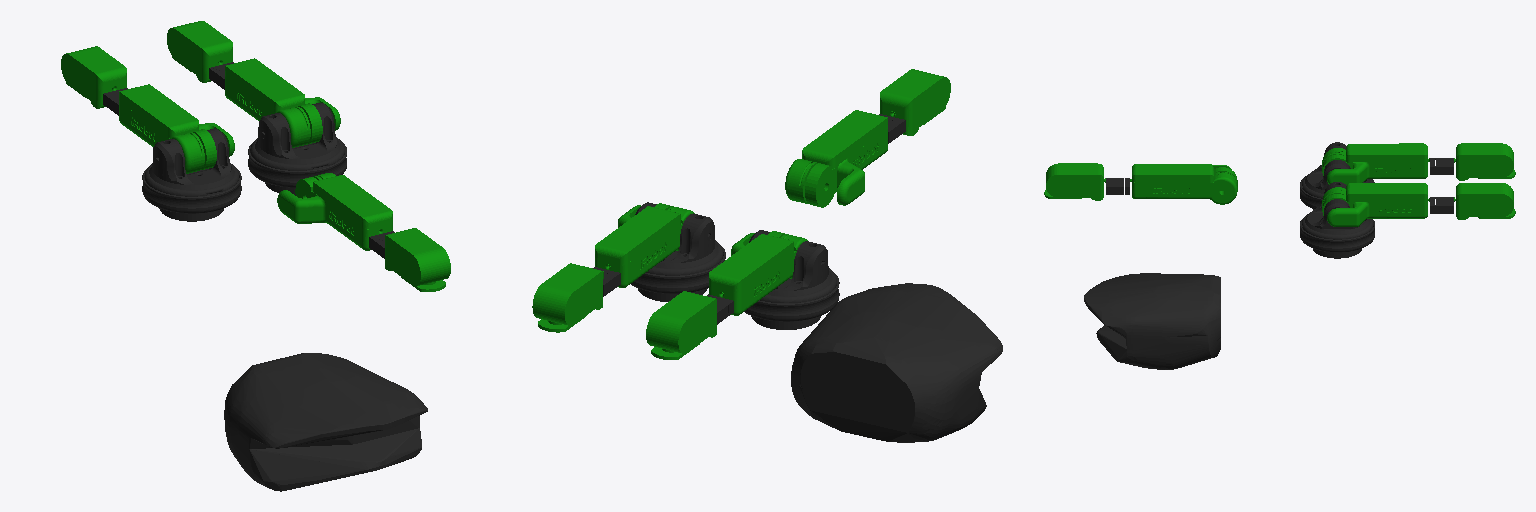
--- Facts derived from the render (not from the file) ---
The picture shows the robot from 3 angles, left to right: view 1: azimuth 30°, elevation 25°; view 2: azimuth 150°, elevation 25°; view 3: azimuth 270°, elevation 25°; orthographic projection.
Robot: armh_handle — 66 links, 65 joints (65 revolute); root link base_link; default pose: every joint at zero.
Visible links, largest first — view 1: base_link, finger[1]/base_rotation_link, finger[2]/proximal_link, finger[0]/base_rotation_link, finger[1]/proximal_link, finger[0]/proximal_link, finger[2]/distal_link, finger[0]/distal_link, finger[1]/distal_link; view 2: base_link, finger[2]/proximal_link, finger[1]/base_rotation_link, finger[0]/proximal_link, finger[1]/proximal_link, finger[0]/base_rotation_link, finger[1]/distal_link, finger[0]/distal_link, finger[2]/distal_link; view 3: base_link, finger[2]/proximal_link, finger[0]/proximal_link, finger[1]/proximal_link, finger[0]/base_rotation_link, finger[1]/distal_link, finger[2]/distal_link, finger[0]/distal_link, finger[1]/base_rotation_link.
Boxes of the visible links, x1,y1,x2,y2 form: base_link: [224, 353, 427, 491]; finger[1]/base_rotation_link: [142, 128, 241, 221]; finger[2]/proximal_link: [277, 173, 392, 250]; finger[0]/base_rotation_link: [248, 103, 346, 195]; finger[1]/proximal_link: [119, 84, 234, 173]; finger[0]/proximal_link: [225, 58, 340, 147]; finger[2]/distal_link: [385, 228, 450, 291]; finger[0]/distal_link: [167, 21, 232, 82]; finger[1]/distal_link: [61, 46, 126, 108]; base_link: [791, 283, 1002, 442]; finger[2]/proximal_link: [785, 110, 887, 207]; finger[1]/base_rotation_link: [744, 230, 839, 329]; finger[0]/proximal_link: [595, 203, 694, 287]; finger[1]/proximal_link: [709, 231, 807, 315]; finger[0]/base_rotation_link: [631, 202, 725, 301]; finger[1]/distal_link: [646, 291, 716, 359]; finger[0]/distal_link: [532, 263, 603, 332]; finger[2]/distal_link: [880, 69, 950, 135]; base_link: [1084, 273, 1220, 369]; finger[2]/proximal_link: [1130, 164, 1237, 204]; finger[0]/proximal_link: [1322, 183, 1429, 226]; finger[1]/proximal_link: [1322, 143, 1429, 184]; finger[0]/base_rotation_link: [1300, 182, 1374, 258]; finger[1]/distal_link: [1454, 143, 1515, 180]; finger[2]/distal_link: [1044, 163, 1105, 200]; finger[0]/distal_link: [1454, 183, 1515, 219]; finger[1]/base_rotation_link: [1300, 142, 1374, 209].
Bounding box of the posed robot: 0.123 × 0.311 × 0.1418 m (x, y, z).
Meshes: 4 distinct files referenced, 9 mesh visuals loaded (4 binary STL).

The robot description file, URDF, robot "armh_handle":
<?xml version="1.0" ?>
<!-- =================================================================================== -->
<!-- |    This document was autogenerated by xacro from robots/handle.urdf.xacro       | -->
<!-- |    EDITING THIS FILE BY HAND IS NOT RECOMMENDED                                 | -->
<!-- =================================================================================== -->
<robot name="armh_handle" xmlns:xacro="http://www.ros.org/wiki/xacro">
  <!-- roslaunch urdf_tutorial display.launch model:=handle.urdf gui:=True -->
  <!-- rosrun xacro xacro.py handle_urdf.xacro > handle.urdf -->
  <!-- tip: use measurements from solid to find the origins and length -->
  <link name="finger[0]/flexible_link_1">
    <inertial>
      <mass value="0.1"/>
      <origin xyz="0 0 0"/>
      <inertia ixx="0.001" ixy="0.0" ixz="0.0" iyy="0.001" iyz="0.0" izz="0.001"/>
    </inertial>
    <collision>
      <geometry>
        <box size=".014 0.00176 .006"/>
      </geometry>
      <origin rpy="1.57 0 0" xyz="0 0 0"/>
    </collision>
    <visual>
      <geometry>
        <box size=".014 0.00176 .006"/>
      </geometry>
      <origin rpy="1.57 0 0" xyz="0 0 0"/>
      <material name="darkgray">
        <color rgba="0.2 0.2 0.2 1"/>
      </material>
    </visual>
  </link>
  <link name="finger[0]/flexible_link_2">
    <inertial>
      <mass value="0.1"/>
      <origin xyz="0 0 0"/>
      <inertia ixx="0.001" ixy="0.0" ixz="0.0" iyy="0.001" iyz="0.0" izz="0.001"/>
    </inertial>
    <collision>
      <geometry>
        <box size=".014 0.00176 .006"/>
      </geometry>
      <origin rpy="1.57 0 0" xyz="0 0 0"/>
    </collision>
    <visual>
      <geometry>
        <box size=".014 0.00176 .006"/>
      </geometry>
      <origin rpy="1.57 0 0" xyz="0 0 0"/>
      <material name="darkgray">
        <color rgba="0.2 0.2 0.2 1"/>
      </material>
    </visual>
  </link>
  <link name="finger[0]/flexible_link_3">
    <inertial>
      <mass value="0.1"/>
      <origin xyz="0 0 0"/>
      <inertia ixx="0.001" ixy="0.0" ixz="0.0" iyy="0.001" iyz="0.0" izz="0.001"/>
    </inertial>
    <collision>
      <geometry>
        <box size=".014 0.00176 .006"/>
      </geometry>
      <origin rpy="1.57 0 0" xyz="0 0 0"/>
    </collision>
    <visual>
      <geometry>
        <box size=".014 0.00176 .006"/>
      </geometry>
      <origin rpy="1.57 0 0" xyz="0 0 0"/>
      <material name="darkgray">
        <color rgba="0.2 0.2 0.2 1"/>
      </material>
    </visual>
  </link>
  <link name="finger[0]/flexible_link_4">
    <inertial>
      <mass value="0.1"/>
      <origin xyz="0 0 0"/>
      <inertia ixx="0.001" ixy="0.0" ixz="0.0" iyy="0.001" iyz="0.0" izz="0.001"/>
    </inertial>
    <collision>
      <geometry>
        <box size=".014 0.00176 .006"/>
      </geometry>
      <origin rpy="1.57 0 0" xyz="0 0 0"/>
    </collision>
    <visual>
      <geometry>
        <box size=".014 0.00176 .006"/>
      </geometry>
      <origin rpy="1.57 0 0" xyz="0 0 0"/>
      <material name="darkgray">
        <color rgba="0.2 0.2 0.2 1"/>
      </material>
    </visual>
  </link>
  <link name="finger[0]/flexible_link_5">
    <inertial>
      <mass value="0.1"/>
      <origin xyz="0 0 0"/>
      <inertia ixx="0.001" ixy="0.0" ixz="0.0" iyy="0.001" iyz="0.0" izz="0.001"/>
    </inertial>
    <collision>
      <geometry>
        <box size=".014 0.00176 .006"/>
      </geometry>
      <origin rpy="1.57 0 0" xyz="0 0 0"/>
    </collision>
    <visual>
      <geometry>
        <box size=".014 0.00176 .006"/>
      </geometry>
      <origin rpy="1.57 0 0" xyz="0 0 0"/>
      <material name="darkgray">
        <color rgba="0.2 0.2 0.2 1"/>
      </material>
    </visual>
  </link>
  <link name="finger[0]/flexible_link_6">
    <inertial>
      <mass value="0.1"/>
      <origin xyz="0 0 0"/>
      <inertia ixx="0.001" ixy="0.0" ixz="0.0" iyy="0.001" iyz="0.0" izz="0.001"/>
    </inertial>
    <collision>
      <geometry>
        <box size=".014 0.00176 .006"/>
      </geometry>
      <origin rpy="1.57 0 0" xyz="0 0 0"/>
    </collision>
    <visual>
      <geometry>
        <box size=".014 0.00176 .006"/>
      </geometry>
      <origin rpy="1.57 0 0" xyz="0 0 0"/>
      <material name="darkgray">
        <color rgba="0.2 0.2 0.2 1"/>
      </material>
    </visual>
  </link>
  <link name="finger[0]/flexible_link_7">
    <inertial>
      <mass value="0.1"/>
      <origin xyz="0 0 0"/>
      <inertia ixx="0.001" ixy="0.0" ixz="0.0" iyy="0.001" iyz="0.0" izz="0.001"/>
    </inertial>
    <collision>
      <geometry>
        <box size=".014 0.00176 .006"/>
      </geometry>
      <origin rpy="1.57 0 0" xyz="0 0 0"/>
    </collision>
    <visual>
      <geometry>
        <box size=".014 0.00176 .006"/>
      </geometry>
      <origin rpy="1.57 0 0" xyz="0 0 0"/>
      <material name="darkgray">
        <color rgba="0.2 0.2 0.2 1"/>
      </material>
    </visual>
  </link>
  <link name="finger[0]/flexible_link_8">
    <inertial>
      <mass value="0.1"/>
      <origin xyz="0 0 0"/>
      <inertia ixx="0.001" ixy="0.0" ixz="0.0" iyy="0.001" iyz="0.0" izz="0.001"/>
    </inertial>
    <collision>
      <geometry>
        <box size=".014 0.00176 .006"/>
      </geometry>
      <origin rpy="1.57 0 0" xyz="0 0 0"/>
    </collision>
    <visual>
      <geometry>
        <box size=".014 0.00176 .006"/>
      </geometry>
      <origin rpy="1.57 0 0" xyz="0 0 0"/>
      <material name="darkgray">
        <color rgba="0.2 0.2 0.2 1"/>
      </material>
    </visual>
  </link>
  <link name="finger[0]/flexible_link_9">
    <inertial>
      <mass value="0.1"/>
      <origin xyz="0 0 0"/>
      <inertia ixx="0.001" ixy="0.0" ixz="0.0" iyy="0.001" iyz="0.0" izz="0.001"/>
    </inertial>
    <collision>
      <geometry>
        <box size=".014 0.00176 .006"/>
      </geometry>
      <origin rpy="1.57 0 0" xyz="0 0 0"/>
    </collision>
    <visual>
      <geometry>
        <box size=".014 0.00176 .006"/>
      </geometry>
      <origin rpy="1.57 0 0" xyz="0 0 0"/>
      <material name="darkgray">
        <color rgba="0.2 0.2 0.2 1"/>
      </material>
    </visual>
  </link>
  <joint name="finger[0]/flexible_joint_flex_from_1_to_2" type="revolute">
    <parent link="finger[0]/flexible_link_1"/>
    <child link="finger[0]/flexible_link_hidden_between_1_and_2"/>
    <origin xyz="0 0 0.00177777777778"/>
    <axis xyz="-1 0 0"/>
    <limit effort="1000.0" lower="0.0" upper="1.57" velocity="0.5"/>
  </joint>
  <link name="finger[0]/flexible_link_hidden_between_1_and_2">
    <inertial>
      <mass value="0.1"/>
      <origin xyz="0 0 0"/>
      <inertia ixx="0.001" ixy="0.0" ixz="0.0" iyy="0.001" iyz="0.0" izz="0.001"/>
    </inertial>
    <collision>
      <geometry>
        <box size="0 0 0"/>
      </geometry>
      <origin rpy="0 0 0" xyz="0 0 0"/>
    </collision>
    <visual>
      <geometry>
        <box size="0 0 0"/>
      </geometry>
      <origin rpy="0 0 0" xyz="0 0 0"/>
    </visual>
  </link>
  <joint name="finger[0]/flexible_joint_twist_from_1_to_2" type="revolute">
    <parent link="finger[0]/flexible_link_hidden_between_1_and_2"/>
    <child link="finger[0]/flexible_link_2"/>
    <origin xyz="0 0 0"/>
    <axis xyz="0 0 1"/>
    <limit effort="1000.0" lower="0.0" upper="1.57" velocity="0.5"/>
  </joint>
  <joint name="finger[0]/flexible_joint_flex_from_2_to_3" type="revolute">
    <parent link="finger[0]/flexible_link_2"/>
    <child link="finger[0]/flexible_link_hidden_between_2_and_3"/>
    <origin xyz="0 0 0.00177777777778"/>
    <axis xyz="-1 0 0"/>
    <limit effort="1000.0" lower="0.0" upper="1.57" velocity="0.5"/>
  </joint>
  <link name="finger[0]/flexible_link_hidden_between_2_and_3">
    <inertial>
      <mass value="0.1"/>
      <origin xyz="0 0 0"/>
      <inertia ixx="0.001" ixy="0.0" ixz="0.0" iyy="0.001" iyz="0.0" izz="0.001"/>
    </inertial>
    <collision>
      <geometry>
        <box size="0 0 0"/>
      </geometry>
      <origin rpy="0 0 0" xyz="0 0 0"/>
    </collision>
    <visual>
      <geometry>
        <box size="0 0 0"/>
      </geometry>
      <origin rpy="0 0 0" xyz="0 0 0"/>
    </visual>
  </link>
  <joint name="finger[0]/flexible_joint_twist_from_2_to_3" type="revolute">
    <parent link="finger[0]/flexible_link_hidden_between_2_and_3"/>
    <child link="finger[0]/flexible_link_3"/>
    <origin xyz="0 0 0"/>
    <axis xyz="0 0 1"/>
    <limit effort="1000.0" lower="0.0" upper="1.57" velocity="0.5"/>
  </joint>
  <joint name="finger[0]/flexible_joint_flex_from_3_to_4" type="revolute">
    <parent link="finger[0]/flexible_link_3"/>
    <child link="finger[0]/flexible_link_hidden_between_3_and_4"/>
    <origin xyz="0 0 0.00177777777778"/>
    <axis xyz="-1 0 0"/>
    <limit effort="1000.0" lower="0.0" upper="1.57" velocity="0.5"/>
  </joint>
  <link name="finger[0]/flexible_link_hidden_between_3_and_4">
    <inertial>
      <mass value="0.1"/>
      <origin xyz="0 0 0"/>
      <inertia ixx="0.001" ixy="0.0" ixz="0.0" iyy="0.001" iyz="0.0" izz="0.001"/>
    </inertial>
    <collision>
      <geometry>
        <box size="0 0 0"/>
      </geometry>
      <origin rpy="0 0 0" xyz="0 0 0"/>
    </collision>
    <visual>
      <geometry>
        <box size="0 0 0"/>
      </geometry>
      <origin rpy="0 0 0" xyz="0 0 0"/>
    </visual>
  </link>
  <joint name="finger[0]/flexible_joint_twist_from_3_to_4" type="revolute">
    <parent link="finger[0]/flexible_link_hidden_between_3_and_4"/>
    <child link="finger[0]/flexible_link_4"/>
    <origin xyz="0 0 0"/>
    <axis xyz="0 0 1"/>
    <limit effort="1000.0" lower="0.0" upper="1.57" velocity="0.5"/>
  </joint>
  <joint name="finger[0]/flexible_joint_flex_from_4_to_5" type="revolute">
    <parent link="finger[0]/flexible_link_4"/>
    <child link="finger[0]/flexible_link_hidden_between_4_and_5"/>
    <origin xyz="0 0 0.00177777777778"/>
    <axis xyz="-1 0 0"/>
    <limit effort="1000.0" lower="0.0" upper="1.57" velocity="0.5"/>
  </joint>
  <link name="finger[0]/flexible_link_hidden_between_4_and_5">
    <inertial>
      <mass value="0.1"/>
      <origin xyz="0 0 0"/>
      <inertia ixx="0.001" ixy="0.0" ixz="0.0" iyy="0.001" iyz="0.0" izz="0.001"/>
    </inertial>
    <collision>
      <geometry>
        <box size="0 0 0"/>
      </geometry>
      <origin rpy="0 0 0" xyz="0 0 0"/>
    </collision>
    <visual>
      <geometry>
        <box size="0 0 0"/>
      </geometry>
      <origin rpy="0 0 0" xyz="0 0 0"/>
    </visual>
  </link>
  <joint name="finger[0]/flexible_joint_twist_from_4_to_5" type="revolute">
    <parent link="finger[0]/flexible_link_hidden_between_4_and_5"/>
    <child link="finger[0]/flexible_link_5"/>
    <origin xyz="0 0 0"/>
    <axis xyz="0 0 1"/>
    <limit effort="1000.0" lower="0.0" upper="1.57" velocity="0.5"/>
  </joint>
  <joint name="finger[0]/flexible_joint_flex_from_5_to_6" type="revolute">
    <parent link="finger[0]/flexible_link_5"/>
    <child link="finger[0]/flexible_link_hidden_between_5_and_6"/>
    <origin xyz="0 0 0.00177777777778"/>
    <axis xyz="-1 0 0"/>
    <limit effort="1000.0" lower="0.0" upper="1.57" velocity="0.5"/>
  </joint>
  <link name="finger[0]/flexible_link_hidden_between_5_and_6">
    <inertial>
      <mass value="0.1"/>
      <origin xyz="0 0 0"/>
      <inertia ixx="0.001" ixy="0.0" ixz="0.0" iyy="0.001" iyz="0.0" izz="0.001"/>
    </inertial>
    <collision>
      <geometry>
        <box size="0 0 0"/>
      </geometry>
      <origin rpy="0 0 0" xyz="0 0 0"/>
    </collision>
    <visual>
      <geometry>
        <box size="0 0 0"/>
      </geometry>
      <origin rpy="0 0 0" xyz="0 0 0"/>
    </visual>
  </link>
  <joint name="finger[0]/flexible_joint_twist_from_5_to_6" type="revolute">
    <parent link="finger[0]/flexible_link_hidden_between_5_and_6"/>
    <child link="finger[0]/flexible_link_6"/>
    <origin xyz="0 0 0"/>
    <axis xyz="0 0 1"/>
    <limit effort="1000.0" lower="0.0" upper="1.57" velocity="0.5"/>
  </joint>
  <joint name="finger[0]/flexible_joint_flex_from_6_to_7" type="revolute">
    <parent link="finger[0]/flexible_link_6"/>
    <child link="finger[0]/flexible_link_hidden_between_6_and_7"/>
    <origin xyz="0 0 0.00177777777778"/>
    <axis xyz="-1 0 0"/>
    <limit effort="1000.0" lower="0.0" upper="1.57" velocity="0.5"/>
  </joint>
  <link name="finger[0]/flexible_link_hidden_between_6_and_7">
    <inertial>
      <mass value="0.1"/>
      <origin xyz="0 0 0"/>
      <inertia ixx="0.001" ixy="0.0" ixz="0.0" iyy="0.001" iyz="0.0" izz="0.001"/>
    </inertial>
    <collision>
      <geometry>
        <box size="0 0 0"/>
      </geometry>
      <origin rpy="0 0 0" xyz="0 0 0"/>
    </collision>
    <visual>
      <geometry>
        <box size="0 0 0"/>
      </geometry>
      <origin rpy="0 0 0" xyz="0 0 0"/>
    </visual>
  </link>
  <joint name="finger[0]/flexible_joint_twist_from_6_to_7" type="revolute">
    <parent link="finger[0]/flexible_link_hidden_between_6_and_7"/>
    <child link="finger[0]/flexible_link_7"/>
    <origin xyz="0 0 0"/>
    <axis xyz="0 0 1"/>
    <limit effort="1000.0" lower="0.0" upper="1.57" velocity="0.5"/>
  </joint>
  <joint name="finger[0]/flexible_joint_flex_from_7_to_8" type="revolute">
    <parent link="finger[0]/flexible_link_7"/>
    <child link="finger[0]/flexible_link_hidden_between_7_and_8"/>
    <origin xyz="0 0 0.00177777777778"/>
    <axis xyz="-1 0 0"/>
    <limit effort="1000.0" lower="0.0" upper="1.57" velocity="0.5"/>
  </joint>
  <link name="finger[0]/flexible_link_hidden_between_7_and_8">
    <inertial>
      <mass value="0.1"/>
      <origin xyz="0 0 0"/>
      <inertia ixx="0.001" ixy="0.0" ixz="0.0" iyy="0.001" iyz="0.0" izz="0.001"/>
    </inertial>
    <collision>
      <geometry>
        <box size="0 0 0"/>
      </geometry>
      <origin rpy="0 0 0" xyz="0 0 0"/>
    </collision>
    <visual>
      <geometry>
        <box size="0 0 0"/>
      </geometry>
      <origin rpy="0 0 0" xyz="0 0 0"/>
    </visual>
  </link>
  <joint name="finger[0]/flexible_joint_twist_from_7_to_8" type="revolute">
    <parent link="finger[0]/flexible_link_hidden_between_7_and_8"/>
    <child link="finger[0]/flexible_link_8"/>
    <origin xyz="0 0 0"/>
    <axis xyz="0 0 1"/>
    <limit effort="1000.0" lower="0.0" upper="1.57" velocity="0.5"/>
  </joint>
  <joint name="finger[0]/flexible_joint_flex_from_8_to_9" type="revolute">
    <parent link="finger[0]/flexible_link_8"/>
    <child link="finger[0]/flexible_link_hidden_between_8_and_9"/>
    <origin xyz="0 0 0.00177777777778"/>
    <axis xyz="-1 0 0"/>
    <limit effort="1000.0" lower="0.0" upper="1.57" velocity="0.5"/>
  </joint>
  <link name="finger[0]/flexible_link_hidden_between_8_and_9">
    <inertial>
      <mass value="0.1"/>
      <origin xyz="0 0 0"/>
      <inertia ixx="0.001" ixy="0.0" ixz="0.0" iyy="0.001" iyz="0.0" izz="0.001"/>
    </inertial>
    <collision>
      <geometry>
        <box size="0 0 0"/>
      </geometry>
      <origin rpy="0 0 0" xyz="0 0 0"/>
    </collision>
    <visual>
      <geometry>
        <box size="0 0 0"/>
      </geometry>
      <origin rpy="0 0 0" xyz="0 0 0"/>
    </visual>
  </link>
  <joint name="finger[0]/flexible_joint_twist_from_8_to_9" type="revolute">
    <parent link="finger[0]/flexible_link_hidden_between_8_and_9"/>
    <child link="finger[0]/flexible_link_9"/>
    <origin xyz="0 0 0"/>
    <axis xyz="0 0 1"/>
    <limit effort="1000.0" lower="0.0" upper="1.57" velocity="0.5"/>
  </joint>
  <joint name="finger[0]/flexible_joint_flex_from_proximal_to_1" type="revolute">
    <parent link="finger[0]/proximal_link"/>
    <child link="finger[0]/flexible_link_hidden_between_proximal_link_and_1"/>
    <origin xyz="0 0 0.062"/>
    <axis xyz="-1 0 0"/>
    <limit effort="1000.0" lower="0.0" upper="1.57" velocity="0.5"/>
  </joint>
  <link name="finger[0]/flexible_link_hidden_between_proximal_link_and_1">
    <inertial>
      <mass value="0.1"/>
      <origin xyz="0 0 0"/>
      <inertia ixx="0.001" ixy="0.0" ixz="0.0" iyy="0.001" iyz="0.0" izz="0.001"/>
    </inertial>
    <collision>
      <geometry>
        <box size="0 0 0"/>
      </geometry>
      <origin rpy="0 0 0" xyz="0 0 0"/>
    </collision>
    <visual>
      <geometry>
        <box size="0 0 0"/>
      </geometry>
      <origin rpy="0 0 0" xyz="0 0 0"/>
    </visual>
  </link>
  <joint name="finger[0]/flexible_joint_twist_from_proximal_to_1" type="revolute">
    <parent link="finger[0]/flexible_link_hidden_between_proximal_link_and_1"/>
    <child link="finger[0]/flexible_link_1"/>
    <origin xyz="0 0 0"/>
    <axis xyz="0 0 1"/>
    <limit effort="1000.0" lower="0.0" upper="1.57" velocity="0.5"/>
  </joint>
  <joint name="finger[0]/flexible_joint_flex_from_9_to_distal" type="revolute">
    <parent link="finger[0]/flexible_link_9"/>
    <child link="finger[0]/flexible_link_hidden_between_9_and_distal_link"/>
    <origin xyz="0 0 0.00177777777778"/>
    <axis xyz="-1 0 0"/>
    <limit effort="1000.0" lower="0.0" upper="1.57" velocity="0.5"/>
  </joint>
  <link name="finger[0]/flexible_link_hidden_between_9_and_distal_link">
    <inertial>
      <mass value="0.1"/>
      <origin xyz="0 0 0"/>
      <inertia ixx="0.001" ixy="0.0" ixz="0.0" iyy="0.001" iyz="0.0" izz="0.001"/>
    </inertial>
    <collision>
      <geometry>
        <box size="0 0 0"/>
      </geometry>
      <origin rpy="0 0 0" xyz="0 0 0"/>
    </collision>
    <visual>
      <geometry>
        <box size="0 0 0"/>
      </geometry>
      <origin rpy="0 0 0" xyz="0 0 0"/>
    </visual>
  </link>
  <joint name="finger[0]/flexible_joint_twist_from_9_to_distal" type="revolute">
    <parent link="finger[0]/flexible_link_hidden_between_9_and_distal_link"/>
    <child link="finger[0]/distal_link"/>
    <origin xyz="0 0 0"/>
    <axis xyz="0 0 1"/>
    <limit effort="1000.0" lower="0.0" upper="1.57" velocity="0.5"/>
  </joint>
  <link name="finger[1]/flexible_link_1">
    <inertial>
      <mass value="0.1"/>
      <origin xyz="0 0 0"/>
      <inertia ixx="0.001" ixy="0.0" ixz="0.0" iyy="0.001" iyz="0.0" izz="0.001"/>
    </inertial>
    <collision>
      <geometry>
        <box size=".014 0.00176 .006"/>
      </geometry>
      <origin rpy="1.57 0 0" xyz="0 0 0"/>
    </collision>
    <visual>
      <geometry>
        <box size=".014 0.00176 .006"/>
      </geometry>
      <origin rpy="1.57 0 0" xyz="0 0 0"/>
      <material name="darkgray">
        <color rgba="0.2 0.2 0.2 1"/>
      </material>
    </visual>
  </link>
  <link name="finger[1]/flexible_link_2">
    <inertial>
      <mass value="0.1"/>
      <origin xyz="0 0 0"/>
      <inertia ixx="0.001" ixy="0.0" ixz="0.0" iyy="0.001" iyz="0.0" izz="0.001"/>
    </inertial>
    <collision>
      <geometry>
        <box size=".014 0.00176 .006"/>
      </geometry>
      <origin rpy="1.57 0 0" xyz="0 0 0"/>
    </collision>
    <visual>
      <geometry>
        <box size=".014 0.00176 .006"/>
      </geometry>
      <origin rpy="1.57 0 0" xyz="0 0 0"/>
      <material name="darkgray">
        <color rgba="0.2 0.2 0.2 1"/>
      </material>
    </visual>
  </link>
  <link name="finger[1]/flexible_link_3">
    <inertial>
      <mass value="0.1"/>
      <origin xyz="0 0 0"/>
      <inertia ixx="0.001" ixy="0.0" ixz="0.0" iyy="0.001" iyz="0.0" izz="0.001"/>
    </inertial>
    <collision>
      <geometry>
        <box size=".014 0.00176 .006"/>
      </geometry>
      <origin rpy="1.57 0 0" xyz="0 0 0"/>
    </collision>
    <visual>
      <geometry>
        <box size=".014 0.00176 .006"/>
      </geometry>
      <origin rpy="1.57 0 0" xyz="0 0 0"/>
      <material name="darkgray">
        <color rgba="0.2 0.2 0.2 1"/>
      </material>
    </visual>
  </link>
  <link name="finger[1]/flexible_link_4">
    <inertial>
      <mass value="0.1"/>
      <origin xyz="0 0 0"/>
      <inertia ixx="0.001" ixy="0.0" ixz="0.0" iyy="0.001" iyz="0.0" izz="0.001"/>
    </inertial>
    <collision>
      <geometry>
        <box size=".014 0.00176 .006"/>
      </geometry>
      <origin rpy="1.57 0 0" xyz="0 0 0"/>
    </collision>
    <visual>
      <geometry>
        <box size=".014 0.00176 .006"/>
      </geometry>
      <origin rpy="1.57 0 0" xyz="0 0 0"/>
      <material name="darkgray">
        <color rgba="0.2 0.2 0.2 1"/>
      </material>
    </visual>
  </link>
  <link name="finger[1]/flexible_link_5">
    <inertial>
      <mass value="0.1"/>
      <origin xyz="0 0 0"/>
      <inertia ixx="0.001" ixy="0.0" ixz="0.0" iyy="0.001" iyz="0.0" izz="0.001"/>
    </inertial>
    <collision>
      <geometry>
        <box size=".014 0.00176 .006"/>
      </geometry>
      <origin rpy="1.57 0 0" xyz="0 0 0"/>
    </collision>
    <visual>
      <geometry>
        <box size=".014 0.00176 .006"/>
      </geometry>
      <origin rpy="1.57 0 0" xyz="0 0 0"/>
      <material name="darkgray">
        <color rgba="0.2 0.2 0.2 1"/>
      </material>
    </visual>
  </link>
  <link name="finger[1]/flexible_link_6">
    <inertial>
      <mass value="0.1"/>
      <origin xyz="0 0 0"/>
      <inertia ixx="0.001" ixy="0.0" ixz="0.0" iyy="0.001" iyz="0.0" izz="0.001"/>
    </inertial>
    <collision>
      <geometry>
        <box size=".014 0.00176 .006"/>
      </geometry>
      <origin rpy="1.57 0 0" xyz="0 0 0"/>
    </collision>
    <visual>
      <geometry>
        <box size=".014 0.00176 .006"/>
      </geometry>
      <origin rpy="1.57 0 0" xyz="0 0 0"/>
      <material name="darkgray">
        <color rgba="0.2 0.2 0.2 1"/>
      </material>
    </visual>
  </link>
  <link name="finger[1]/flexible_link_7">
    <inertial>
      <mass value="0.1"/>
      <origin xyz="0 0 0"/>
      <inertia ixx="0.001" ixy="0.0" ixz="0.0" iyy="0.001" iyz="0.0" izz="0.001"/>
    </inertial>
    <collision>
      <geometry>
        <box size=".014 0.00176 .006"/>
      </geometry>
      <origin rpy="1.57 0 0" xyz="0 0 0"/>
    </collision>
    <visual>
      <geometry>
        <box size=".014 0.00176 .006"/>
      </geometry>
      <origin rpy="1.57 0 0" xyz="0 0 0"/>
      <material name="darkgray">
        <color rgba="0.2 0.2 0.2 1"/>
      </material>
    </visual>
  </link>
  <link name="finger[1]/flexible_link_8">
    <inertial>
      <mass value="0.1"/>
      <origin xyz="0 0 0"/>
      <inertia ixx="0.001" ixy="0.0" ixz="0.0" iyy="0.001" iyz="0.0" izz="0.001"/>
    </inertial>
    <collision>
      <geometry>
        <box size=".014 0.00176 .006"/>
      </geometry>
      <origin rpy="1.57 0 0" xyz="0 0 0"/>
    </collision>
    <visual>
      <geometry>
        <box size=".014 0.00176 .006"/>
      </geometry>
      <origin rpy="1.57 0 0" xyz="0 0 0"/>
      <material name="darkgray">
        <color rgba="0.2 0.2 0.2 1"/>
      </material>
    </visual>
  </link>
  <link name="finger[1]/flexible_link_9">
    <inertial>
      <mass value="0.1"/>
      <origin xyz="0 0 0"/>
      <inertia ixx="0.001" ixy="0.0" ixz="0.0" iyy="0.001" iyz="0.0" izz="0.001"/>
    </inertial>
    <collision>
      <geometry>
        <box size=".014 0.00176 .006"/>
      </geometry>
      <origin rpy="1.57 0 0" xyz="0 0 0"/>
    </collision>
    <visual>
      <geometry>
        <box size=".014 0.00176 .006"/>
      </geometry>
      <origin rpy="1.57 0 0" xyz="0 0 0"/>
      <material name="darkgray">
        <color rgba="0.2 0.2 0.2 1"/>
      </material>
    </visual>
  </link>
  <joint name="finger[1]/flexible_joint_flex_from_1_to_2" type="revolute">
    <parent link="finger[1]/flexible_link_1"/>
    <child link="finger[1]/flexible_link_hidden_between_1_and_2"/>
    <origin xyz="0 0 0.00177777777778"/>
    <axis xyz="-1 0 0"/>
    <limit effort="1000.0" lower="0.0" upper="1.57" velocity="0.5"/>
  </joint>
  <link name="finger[1]/flexible_link_hidden_between_1_and_2">
    <inertial>
      <mass value="0.1"/>
      <origin xyz="0 0 0"/>
      <inertia ixx="0.001" ixy="0.0" ixz="0.0" iyy="0.001" iyz="0.0" izz="0.001"/>
    </inertial>
    <collision>
      <geometry>
        <box size="0 0 0"/>
      </geometry>
      <origin rpy="0 0 0" xyz="0 0 0"/>
    </collision>
    <visual>
      <geometry>
        <box size="0 0 0"/>
      </geometry>
      <origin rpy="0 0 0" xyz="0 0 0"/>
    </visual>
  </link>
  <joint name="finger[1]/flexible_joint_twist_from_1_to_2" type="revolute">
    <parent link="finger[1]/flexible_link_hidden_between_1_and_2"/>
    <child link="finger[1]/flexible_link_2"/>
    <origin xyz="0 0 0"/>
    <axis xyz="0 0 1"/>
    <limit effort="1000.0" lower="0.0" upper="1.57" velocity="0.5"/>
  </joint>
  <joint name="finger[1]/flexible_joint_flex_from_2_to_3" type="revolute">
    <parent link="finger[1]/flexible_link_2"/>
    <child link="finger[1]/flexible_link_hidden_between_2_and_3"/>
    <origin xyz="0 0 0.00177777777778"/>
    <axis xyz="-1 0 0"/>
    <limit effort="1000.0" lower="0.0" upper="1.57" velocity="0.5"/>
  </joint>
  <link name="finger[1]/flexible_link_hidden_between_2_and_3">
    <inertial>
      <mass value="0.1"/>
      <origin xyz="0 0 0"/>
      <inertia ixx="0.001" ixy="0.0" ixz="0.0" iyy="0.001" iyz="0.0" izz="0.001"/>
    </inertial>
    <collision>
      <geometry>
        <box size="0 0 0"/>
      </geometry>
      <origin rpy="0 0 0" xyz="0 0 0"/>
    </collision>
    <visual>
      <geometry>
        <box size="0 0 0"/>
      </geometry>
      <origin rpy="0 0 0" xyz="0 0 0"/>
    </visual>
  </link>
  <joint name="finger[1]/flexible_joint_twist_from_2_to_3" type="revolute">
    <parent link="finger[1]/flexible_link_hidden_between_2_and_3"/>
    <child link="finger[1]/flexible_link_3"/>
    <origin xyz="0 0 0"/>
    <axis xyz="0 0 1"/>
    <limit effort="1000.0" lower="0.0" upper="1.57" velocity="0.5"/>
  </joint>
  <joint name="finger[1]/flexible_joint_flex_from_3_to_4" type="revolute">
    <parent link="finger[1]/flexible_link_3"/>
    <child link="finger[1]/flexible_link_hidden_between_3_and_4"/>
    <origin xyz="0 0 0.00177777777778"/>
    <axis xyz="-1 0 0"/>
    <limit effort="1000.0" lower="0.0" upper="1.57" velocity="0.5"/>
  </joint>
  <link name="finger[1]/flexible_link_hidden_between_3_and_4">
    <inertial>
      <mass value="0.1"/>
      <origin xyz="0 0 0"/>
      <inertia ixx="0.001" ixy="0.0" ixz="0.0" iyy="0.001" iyz="0.0" izz="0.001"/>
    </inertial>
    <collision>
      <geometry>
        <box size="0 0 0"/>
      </geometry>
      <origin rpy="0 0 0" xyz="0 0 0"/>
    </collision>
    <visual>
      <geometry>
        <box size="0 0 0"/>
      </geometry>
      <origin rpy="0 0 0" xyz="0 0 0"/>
    </visual>
  </link>
  <joint name="finger[1]/flexible_joint_twist_from_3_to_4" type="revolute">
    <parent link="finger[1]/flexible_link_hidden_between_3_and_4"/>
    <child link="finger[1]/flexible_link_4"/>
    <origin xyz="0 0 0"/>
    <axis xyz="0 0 1"/>
    <limit effort="1000.0" lower="0.0" upper="1.57" velocity="0.5"/>
  </joint>
  <joint name="finger[1]/flexible_joint_flex_from_4_to_5" type="revolute">
    <parent link="finger[1]/flexible_link_4"/>
    <child link="finger[1]/flexible_link_hidden_between_4_and_5"/>
    <origin xyz="0 0 0.00177777777778"/>
    <axis xyz="-1 0 0"/>
    <limit effort="1000.0" lower="0.0" upper="1.57" velocity="0.5"/>
  </joint>
  <link name="finger[1]/flexible_link_hidden_between_4_and_5">
    <inertial>
      <mass value="0.1"/>
      <origin xyz="0 0 0"/>
      <inertia ixx="0.001" ixy="0.0" ixz="0.0" iyy="0.001" iyz="0.0" izz="0.001"/>
    </inertial>
    <collision>
      <geometry>
        <box size="0 0 0"/>
      </geometry>
      <origin rpy="0 0 0" xyz="0 0 0"/>
    </collision>
    <visual>
      <geometry>
        <box size="0 0 0"/>
      </geometry>
      <origin rpy="0 0 0" xyz="0 0 0"/>
    </visual>
  </link>
  <joint name="finger[1]/flexible_joint_twist_from_4_to_5" type="revolute">
    <parent link="finger[1]/flexible_link_hidden_between_4_and_5"/>
    <child link="finger[1]/flexible_link_5"/>
    <origin xyz="0 0 0"/>
    <axis xyz="0 0 1"/>
    <limit effort="1000.0" lower="0.0" upper="1.57" velocity="0.5"/>
  </joint>
  <joint name="finger[1]/flexible_joint_flex_from_5_to_6" type="revolute">
    <parent link="finger[1]/flexible_link_5"/>
    <child link="finger[1]/flexible_link_hidden_between_5_and_6"/>
    <origin xyz="0 0 0.00177777777778"/>
    <axis xyz="-1 0 0"/>
    <limit effort="1000.0" lower="0.0" upper="1.57" velocity="0.5"/>
  </joint>
  <link name="finger[1]/flexible_link_hidden_between_5_and_6">
    <inertial>
      <mass value="0.1"/>
      <origin xyz="0 0 0"/>
      <inertia ixx="0.001" ixy="0.0" ixz="0.0" iyy="0.001" iyz="0.0" izz="0.001"/>
    </inertial>
    <collision>
      <geometry>
        <box size="0 0 0"/>
      </geometry>
      <origin rpy="0 0 0" xyz="0 0 0"/>
    </collision>
    <visual>
      <geometry>
        <box size="0 0 0"/>
      </geometry>
      <origin rpy="0 0 0" xyz="0 0 0"/>
    </visual>
  </link>
  <joint name="finger[1]/flexible_joint_twist_from_5_to_6" type="revolute">
    <parent link="finger[1]/flexible_link_hidden_between_5_and_6"/>
    <child link="finger[1]/flexible_link_6"/>
    <origin xyz="0 0 0"/>
    <axis xyz="0 0 1"/>
    <limit effort="1000.0" lower="0.0" upper="1.57" velocity="0.5"/>
  </joint>
  <joint name="finger[1]/flexible_joint_flex_from_6_to_7" type="revolute">
    <parent link="finger[1]/flexible_link_6"/>
    <child link="finger[1]/flexible_link_hidden_between_6_and_7"/>
    <origin xyz="0 0 0.00177777777778"/>
    <axis xyz="-1 0 0"/>
    <limit effort="1000.0" lower="0.0" upper="1.57" velocity="0.5"/>
  </joint>
  <link name="finger[1]/flexible_link_hidden_between_6_and_7">
    <inertial>
      <mass value="0.1"/>
      <origin xyz="0 0 0"/>
      <inertia ixx="0.001" ixy="0.0" ixz="0.0" iyy="0.001" iyz="0.0" izz="0.001"/>
    </inertial>
    <collision>
      <geometry>
        <box size="0 0 0"/>
      </geometry>
      <origin rpy="0 0 0" xyz="0 0 0"/>
    </collision>
    <visual>
      <geometry>
        <box size="0 0 0"/>
      </geometry>
      <origin rpy="0 0 0" xyz="0 0 0"/>
    </visual>
  </link>
  <joint name="finger[1]/flexible_joint_twist_from_6_to_7" type="revolute">
    <parent link="finger[1]/flexible_link_hidden_between_6_and_7"/>
    <child link="finger[1]/flexible_link_7"/>
    <origin xyz="0 0 0"/>
    <axis xyz="0 0 1"/>
    <limit effort="1000.0" lower="0.0" upper="1.57" velocity="0.5"/>
  </joint>
  <joint name="finger[1]/flexible_joint_flex_from_7_to_8" type="revolute">
    <parent link="finger[1]/flexible_link_7"/>
    <child link="finger[1]/flexible_link_hidden_between_7_and_8"/>
    <origin xyz="0 0 0.00177777777778"/>
    <axis xyz="-1 0 0"/>
    <limit effort="1000.0" lower="0.0" upper="1.57" velocity="0.5"/>
  </joint>
  <link name="finger[1]/flexible_link_hidden_between_7_and_8">
    <inertial>
      <mass value="0.1"/>
      <origin xyz="0 0 0"/>
      <inertia ixx="0.001" ixy="0.0" ixz="0.0" iyy="0.001" iyz="0.0" izz="0.001"/>
    </inertial>
    <collision>
      <geometry>
        <box size="0 0 0"/>
      </geometry>
      <origin rpy="0 0 0" xyz="0 0 0"/>
    </collision>
    <visual>
      <geometry>
        <box size="0 0 0"/>
      </geometry>
      <origin rpy="0 0 0" xyz="0 0 0"/>
    </visual>
  </link>
  <joint name="finger[1]/flexible_joint_twist_from_7_to_8" type="revolute">
    <parent link="finger[1]/flexible_link_hidden_between_7_and_8"/>
    <child link="finger[1]/flexible_link_8"/>
    <origin xyz="0 0 0"/>
    <axis xyz="0 0 1"/>
    <limit effort="1000.0" lower="0.0" upper="1.57" velocity="0.5"/>
  </joint>
  <joint name="finger[1]/flexible_joint_flex_from_8_to_9" type="revolute">
    <parent link="finger[1]/flexible_link_8"/>
    <child link="finger[1]/flexible_link_hidden_between_8_and_9"/>
    <origin xyz="0 0 0.00177777777778"/>
    <axis xyz="-1 0 0"/>
    <limit effort="1000.0" lower="0.0" upper="1.57" velocity="0.5"/>
  </joint>
  <link name="finger[1]/flexible_link_hidden_between_8_and_9">
    <inertial>
      <mass value="0.1"/>
      <origin xyz="0 0 0"/>
      <inertia ixx="0.001" ixy="0.0" ixz="0.0" iyy="0.001" iyz="0.0" izz="0.001"/>
    </inertial>
    <collision>
      <geometry>
        <box size="0 0 0"/>
      </geometry>
      <origin rpy="0 0 0" xyz="0 0 0"/>
    </collision>
    <visual>
      <geometry>
        <box size="0 0 0"/>
      </geometry>
      <origin rpy="0 0 0" xyz="0 0 0"/>
    </visual>
  </link>
  <joint name="finger[1]/flexible_joint_twist_from_8_to_9" type="revolute">
    <parent link="finger[1]/flexible_link_hidden_between_8_and_9"/>
    <child link="finger[1]/flexible_link_9"/>
    <origin xyz="0 0 0"/>
    <axis xyz="0 0 1"/>
    <limit effort="1000.0" lower="0.0" upper="1.57" velocity="0.5"/>
  </joint>
  <joint name="finger[1]/flexible_joint_flex_from_proximal_to_1" type="revolute">
    <parent link="finger[1]/proximal_link"/>
    <child link="finger[1]/flexible_link_hidden_between_proximal_link_and_1"/>
    <origin xyz="0 0 0.062"/>
    <axis xyz="-1 0 0"/>
    <limit effort="1000.0" lower="0.0" upper="1.57" velocity="0.5"/>
  </joint>
  <link name="finger[1]/flexible_link_hidden_between_proximal_link_and_1">
    <inertial>
      <mass value="0.1"/>
      <origin xyz="0 0 0"/>
      <inertia ixx="0.001" ixy="0.0" ixz="0.0" iyy="0.001" iyz="0.0" izz="0.001"/>
    </inertial>
    <collision>
      <geometry>
        <box size="0 0 0"/>
      </geometry>
      <origin rpy="0 0 0" xyz="0 0 0"/>
    </collision>
    <visual>
      <geometry>
        <box size="0 0 0"/>
      </geometry>
      <origin rpy="0 0 0" xyz="0 0 0"/>
    </visual>
  </link>
  <joint name="finger[1]/flexible_joint_twist_from_proximal_to_1" type="revolute">
    <parent link="finger[1]/flexible_link_hidden_between_proximal_link_and_1"/>
    <child link="finger[1]/flexible_link_1"/>
    <origin xyz="0 0 0"/>
    <axis xyz="0 0 1"/>
    <limit effort="1000.0" lower="0.0" upper="1.57" velocity="0.5"/>
  </joint>
  <joint name="finger[1]/flexible_joint_flex_from_9_to_distal" type="revolute">
    <parent link="finger[1]/flexible_link_9"/>
    <child link="finger[1]/flexible_link_hidden_between_9_and_distal_link"/>
    <origin xyz="0 0 0.00177777777778"/>
    <axis xyz="-1 0 0"/>
    <limit effort="1000.0" lower="0.0" upper="1.57" velocity="0.5"/>
  </joint>
  <link name="finger[1]/flexible_link_hidden_between_9_and_distal_link">
    <inertial>
      <mass value="0.1"/>
      <origin xyz="0 0 0"/>
      <inertia ixx="0.001" ixy="0.0" ixz="0.0" iyy="0.001" iyz="0.0" izz="0.001"/>
    </inertial>
    <collision>
      <geometry>
        <box size="0 0 0"/>
      </geometry>
      <origin rpy="0 0 0" xyz="0 0 0"/>
    </collision>
    <visual>
      <geometry>
        <box size="0 0 0"/>
      </geometry>
      <origin rpy="0 0 0" xyz="0 0 0"/>
    </visual>
  </link>
  <joint name="finger[1]/flexible_joint_twist_from_9_to_distal" type="revolute">
    <parent link="finger[1]/flexible_link_hidden_between_9_and_distal_link"/>
    <child link="finger[1]/distal_link"/>
    <origin xyz="0 0 0"/>
    <axis xyz="0 0 1"/>
    <limit effort="1000.0" lower="0.0" upper="1.57" velocity="0.5"/>
  </joint>
  <link name="finger[2]/flexible_link_1">
    <inertial>
      <mass value="0.1"/>
      <origin xyz="0 0 0"/>
      <inertia ixx="0.001" ixy="0.0" ixz="0.0" iyy="0.001" iyz="0.0" izz="0.001"/>
    </inertial>
    <collision>
      <geometry>
        <box size=".014 0.00176 .006"/>
      </geometry>
      <origin rpy="1.57 0 0" xyz="0 0 0"/>
    </collision>
    <visual>
      <geometry>
        <box size=".014 0.00176 .006"/>
      </geometry>
      <origin rpy="1.57 0 0" xyz="0 0 0"/>
      <material name="darkgray">
        <color rgba="0.2 0.2 0.2 1"/>
      </material>
    </visual>
  </link>
  <link name="finger[2]/flexible_link_2">
    <inertial>
      <mass value="0.1"/>
      <origin xyz="0 0 0"/>
      <inertia ixx="0.001" ixy="0.0" ixz="0.0" iyy="0.001" iyz="0.0" izz="0.001"/>
    </inertial>
    <collision>
      <geometry>
        <box size=".014 0.00176 .006"/>
      </geometry>
      <origin rpy="1.57 0 0" xyz="0 0 0"/>
    </collision>
    <visual>
      <geometry>
        <box size=".014 0.00176 .006"/>
      </geometry>
      <origin rpy="1.57 0 0" xyz="0 0 0"/>
      <material name="darkgray">
        <color rgba="0.2 0.2 0.2 1"/>
      </material>
    </visual>
  </link>
  <link name="finger[2]/flexible_link_3">
    <inertial>
      <mass value="0.1"/>
      <origin xyz="0 0 0"/>
      <inertia ixx="0.001" ixy="0.0" ixz="0.0" iyy="0.001" iyz="0.0" izz="0.001"/>
    </inertial>
    <collision>
      <geometry>
        <box size=".014 0.00176 .006"/>
      </geometry>
      <origin rpy="1.57 0 0" xyz="0 0 0"/>
    </collision>
    <visual>
      <geometry>
        <box size=".014 0.00176 .006"/>
      </geometry>
      <origin rpy="1.57 0 0" xyz="0 0 0"/>
      <material name="darkgray">
        <color rgba="0.2 0.2 0.2 1"/>
      </material>
    </visual>
  </link>
  <link name="finger[2]/flexible_link_4">
    <inertial>
      <mass value="0.1"/>
      <origin xyz="0 0 0"/>
      <inertia ixx="0.001" ixy="0.0" ixz="0.0" iyy="0.001" iyz="0.0" izz="0.001"/>
    </inertial>
    <collision>
      <geometry>
        <box size=".014 0.00176 .006"/>
      </geometry>
      <origin rpy="1.57 0 0" xyz="0 0 0"/>
    </collision>
    <visual>
      <geometry>
        <box size=".014 0.00176 .006"/>
      </geometry>
      <origin rpy="1.57 0 0" xyz="0 0 0"/>
      <material name="darkgray">
        <color rgba="0.2 0.2 0.2 1"/>
      </material>
    </visual>
  </link>
  <link name="finger[2]/flexible_link_5">
    <inertial>
      <mass value="0.1"/>
      <origin xyz="0 0 0"/>
      <inertia ixx="0.001" ixy="0.0" ixz="0.0" iyy="0.001" iyz="0.0" izz="0.001"/>
    </inertial>
    <collision>
      <geometry>
        <box size=".014 0.00176 .006"/>
      </geometry>
      <origin rpy="1.57 0 0" xyz="0 0 0"/>
    </collision>
    <visual>
      <geometry>
        <box size=".014 0.00176 .006"/>
      </geometry>
      <origin rpy="1.57 0 0" xyz="0 0 0"/>
      <material name="darkgray">
        <color rgba="0.2 0.2 0.2 1"/>
      </material>
    </visual>
  </link>
  <link name="finger[2]/flexible_link_6">
    <inertial>
      <mass value="0.1"/>
      <origin xyz="0 0 0"/>
      <inertia ixx="0.001" ixy="0.0" ixz="0.0" iyy="0.001" iyz="0.0" izz="0.001"/>
    </inertial>
    <collision>
      <geometry>
        <box size=".014 0.00176 .006"/>
      </geometry>
      <origin rpy="1.57 0 0" xyz="0 0 0"/>
    </collision>
    <visual>
      <geometry>
        <box size=".014 0.00176 .006"/>
      </geometry>
      <origin rpy="1.57 0 0" xyz="0 0 0"/>
      <material name="darkgray">
        <color rgba="0.2 0.2 0.2 1"/>
      </material>
    </visual>
  </link>
  <link name="finger[2]/flexible_link_7">
    <inertial>
      <mass value="0.1"/>
      <origin xyz="0 0 0"/>
      <inertia ixx="0.001" ixy="0.0" ixz="0.0" iyy="0.001" iyz="0.0" izz="0.001"/>
    </inertial>
    <collision>
      <geometry>
        <box size=".014 0.00176 .006"/>
      </geometry>
      <origin rpy="1.57 0 0" xyz="0 0 0"/>
    </collision>
    <visual>
      <geometry>
        <box size=".014 0.00176 .006"/>
      </geometry>
      <origin rpy="1.57 0 0" xyz="0 0 0"/>
      <material name="darkgray">
        <color rgba="0.2 0.2 0.2 1"/>
      </material>
    </visual>
  </link>
  <link name="finger[2]/flexible_link_8">
    <inertial>
      <mass value="0.1"/>
      <origin xyz="0 0 0"/>
      <inertia ixx="0.001" ixy="0.0" ixz="0.0" iyy="0.001" iyz="0.0" izz="0.001"/>
    </inertial>
    <collision>
      <geometry>
        <box size=".014 0.00176 .006"/>
      </geometry>
      <origin rpy="1.57 0 0" xyz="0 0 0"/>
    </collision>
    <visual>
      <geometry>
        <box size=".014 0.00176 .006"/>
      </geometry>
      <origin rpy="1.57 0 0" xyz="0 0 0"/>
      <material name="darkgray">
        <color rgba="0.2 0.2 0.2 1"/>
      </material>
    </visual>
  </link>
  <link name="finger[2]/flexible_link_9">
    <inertial>
      <mass value="0.1"/>
      <origin xyz="0 0 0"/>
      <inertia ixx="0.001" ixy="0.0" ixz="0.0" iyy="0.001" iyz="0.0" izz="0.001"/>
    </inertial>
    <collision>
      <geometry>
        <box size=".014 0.00176 .006"/>
      </geometry>
      <origin rpy="1.57 0 0" xyz="0 0 0"/>
    </collision>
    <visual>
      <geometry>
        <box size=".014 0.00176 .006"/>
      </geometry>
      <origin rpy="1.57 0 0" xyz="0 0 0"/>
      <material name="darkgray">
        <color rgba="0.2 0.2 0.2 1"/>
      </material>
    </visual>
  </link>
  <joint name="finger[2]/flexible_joint_flex_from_1_to_2" type="revolute">
    <parent link="finger[2]/flexible_link_1"/>
    <child link="finger[2]/flexible_link_hidden_between_1_and_2"/>
    <origin xyz="0 0 0.00177777777778"/>
    <axis xyz="-1 0 0"/>
    <limit effort="1000.0" lower="0.0" upper="1.57" velocity="0.5"/>
  </joint>
  <link name="finger[2]/flexible_link_hidden_between_1_and_2">
    <inertial>
      <mass value="0.1"/>
      <origin xyz="0 0 0"/>
      <inertia ixx="0.001" ixy="0.0" ixz="0.0" iyy="0.001" iyz="0.0" izz="0.001"/>
    </inertial>
    <collision>
      <geometry>
        <box size="0 0 0"/>
      </geometry>
      <origin rpy="0 0 0" xyz="0 0 0"/>
    </collision>
    <visual>
      <geometry>
        <box size="0 0 0"/>
      </geometry>
      <origin rpy="0 0 0" xyz="0 0 0"/>
    </visual>
  </link>
  <joint name="finger[2]/flexible_joint_twist_from_1_to_2" type="revolute">
    <parent link="finger[2]/flexible_link_hidden_between_1_and_2"/>
    <child link="finger[2]/flexible_link_2"/>
    <origin xyz="0 0 0"/>
    <axis xyz="0 0 1"/>
    <limit effort="1000.0" lower="0.0" upper="1.57" velocity="0.5"/>
  </joint>
  <joint name="finger[2]/flexible_joint_flex_from_2_to_3" type="revolute">
    <parent link="finger[2]/flexible_link_2"/>
    <child link="finger[2]/flexible_link_hidden_between_2_and_3"/>
    <origin xyz="0 0 0.00177777777778"/>
    <axis xyz="-1 0 0"/>
    <limit effort="1000.0" lower="0.0" upper="1.57" velocity="0.5"/>
  </joint>
  <link name="finger[2]/flexible_link_hidden_between_2_and_3">
    <inertial>
      <mass value="0.1"/>
      <origin xyz="0 0 0"/>
      <inertia ixx="0.001" ixy="0.0" ixz="0.0" iyy="0.001" iyz="0.0" izz="0.001"/>
    </inertial>
    <collision>
      <geometry>
        <box size="0 0 0"/>
      </geometry>
      <origin rpy="0 0 0" xyz="0 0 0"/>
    </collision>
    <visual>
      <geometry>
        <box size="0 0 0"/>
      </geometry>
      <origin rpy="0 0 0" xyz="0 0 0"/>
    </visual>
  </link>
  <joint name="finger[2]/flexible_joint_twist_from_2_to_3" type="revolute">
    <parent link="finger[2]/flexible_link_hidden_between_2_and_3"/>
    <child link="finger[2]/flexible_link_3"/>
    <origin xyz="0 0 0"/>
    <axis xyz="0 0 1"/>
    <limit effort="1000.0" lower="0.0" upper="1.57" velocity="0.5"/>
  </joint>
  <joint name="finger[2]/flexible_joint_flex_from_3_to_4" type="revolute">
    <parent link="finger[2]/flexible_link_3"/>
    <child link="finger[2]/flexible_link_hidden_between_3_and_4"/>
    <origin xyz="0 0 0.00177777777778"/>
    <axis xyz="-1 0 0"/>
    <limit effort="1000.0" lower="0.0" upper="1.57" velocity="0.5"/>
  </joint>
  <link name="finger[2]/flexible_link_hidden_between_3_and_4">
    <inertial>
      <mass value="0.1"/>
      <origin xyz="0 0 0"/>
      <inertia ixx="0.001" ixy="0.0" ixz="0.0" iyy="0.001" iyz="0.0" izz="0.001"/>
    </inertial>
    <collision>
      <geometry>
        <box size="0 0 0"/>
      </geometry>
      <origin rpy="0 0 0" xyz="0 0 0"/>
    </collision>
    <visual>
      <geometry>
        <box size="0 0 0"/>
      </geometry>
      <origin rpy="0 0 0" xyz="0 0 0"/>
    </visual>
  </link>
  <joint name="finger[2]/flexible_joint_twist_from_3_to_4" type="revolute">
    <parent link="finger[2]/flexible_link_hidden_between_3_and_4"/>
    <child link="finger[2]/flexible_link_4"/>
    <origin xyz="0 0 0"/>
    <axis xyz="0 0 1"/>
    <limit effort="1000.0" lower="0.0" upper="1.57" velocity="0.5"/>
  </joint>
  <joint name="finger[2]/flexible_joint_flex_from_4_to_5" type="revolute">
    <parent link="finger[2]/flexible_link_4"/>
    <child link="finger[2]/flexible_link_hidden_between_4_and_5"/>
    <origin xyz="0 0 0.00177777777778"/>
    <axis xyz="-1 0 0"/>
    <limit effort="1000.0" lower="0.0" upper="1.57" velocity="0.5"/>
  </joint>
  <link name="finger[2]/flexible_link_hidden_between_4_and_5">
    <inertial>
      <mass value="0.1"/>
      <origin xyz="0 0 0"/>
      <inertia ixx="0.001" ixy="0.0" ixz="0.0" iyy="0.001" iyz="0.0" izz="0.001"/>
    </inertial>
    <collision>
      <geometry>
        <box size="0 0 0"/>
      </geometry>
      <origin rpy="0 0 0" xyz="0 0 0"/>
    </collision>
    <visual>
      <geometry>
        <box size="0 0 0"/>
      </geometry>
      <origin rpy="0 0 0" xyz="0 0 0"/>
    </visual>
  </link>
  <joint name="finger[2]/flexible_joint_twist_from_4_to_5" type="revolute">
    <parent link="finger[2]/flexible_link_hidden_between_4_and_5"/>
    <child link="finger[2]/flexible_link_5"/>
    <origin xyz="0 0 0"/>
    <axis xyz="0 0 1"/>
    <limit effort="1000.0" lower="0.0" upper="1.57" velocity="0.5"/>
  </joint>
  <joint name="finger[2]/flexible_joint_flex_from_5_to_6" type="revolute">
    <parent link="finger[2]/flexible_link_5"/>
    <child link="finger[2]/flexible_link_hidden_between_5_and_6"/>
    <origin xyz="0 0 0.00177777777778"/>
    <axis xyz="-1 0 0"/>
    <limit effort="1000.0" lower="0.0" upper="1.57" velocity="0.5"/>
  </joint>
  <link name="finger[2]/flexible_link_hidden_between_5_and_6">
    <inertial>
      <mass value="0.1"/>
      <origin xyz="0 0 0"/>
      <inertia ixx="0.001" ixy="0.0" ixz="0.0" iyy="0.001" iyz="0.0" izz="0.001"/>
    </inertial>
    <collision>
      <geometry>
        <box size="0 0 0"/>
      </geometry>
      <origin rpy="0 0 0" xyz="0 0 0"/>
    </collision>
    <visual>
      <geometry>
        <box size="0 0 0"/>
      </geometry>
      <origin rpy="0 0 0" xyz="0 0 0"/>
    </visual>
  </link>
  <joint name="finger[2]/flexible_joint_twist_from_5_to_6" type="revolute">
    <parent link="finger[2]/flexible_link_hidden_between_5_and_6"/>
    <child link="finger[2]/flexible_link_6"/>
    <origin xyz="0 0 0"/>
    <axis xyz="0 0 1"/>
    <limit effort="1000.0" lower="0.0" upper="1.57" velocity="0.5"/>
  </joint>
  <joint name="finger[2]/flexible_joint_flex_from_6_to_7" type="revolute">
    <parent link="finger[2]/flexible_link_6"/>
    <child link="finger[2]/flexible_link_hidden_between_6_and_7"/>
    <origin xyz="0 0 0.00177777777778"/>
    <axis xyz="-1 0 0"/>
    <limit effort="1000.0" lower="0.0" upper="1.57" velocity="0.5"/>
  </joint>
  <link name="finger[2]/flexible_link_hidden_between_6_and_7">
    <inertial>
      <mass value="0.1"/>
      <origin xyz="0 0 0"/>
      <inertia ixx="0.001" ixy="0.0" ixz="0.0" iyy="0.001" iyz="0.0" izz="0.001"/>
    </inertial>
    <collision>
      <geometry>
        <box size="0 0 0"/>
      </geometry>
      <origin rpy="0 0 0" xyz="0 0 0"/>
    </collision>
    <visual>
      <geometry>
        <box size="0 0 0"/>
      </geometry>
      <origin rpy="0 0 0" xyz="0 0 0"/>
    </visual>
  </link>
  <joint name="finger[2]/flexible_joint_twist_from_6_to_7" type="revolute">
    <parent link="finger[2]/flexible_link_hidden_between_6_and_7"/>
    <child link="finger[2]/flexible_link_7"/>
    <origin xyz="0 0 0"/>
    <axis xyz="0 0 1"/>
    <limit effort="1000.0" lower="0.0" upper="1.57" velocity="0.5"/>
  </joint>
  <joint name="finger[2]/flexible_joint_flex_from_7_to_8" type="revolute">
    <parent link="finger[2]/flexible_link_7"/>
    <child link="finger[2]/flexible_link_hidden_between_7_and_8"/>
    <origin xyz="0 0 0.00177777777778"/>
    <axis xyz="-1 0 0"/>
    <limit effort="1000.0" lower="0.0" upper="1.57" velocity="0.5"/>
  </joint>
  <link name="finger[2]/flexible_link_hidden_between_7_and_8">
    <inertial>
      <mass value="0.1"/>
      <origin xyz="0 0 0"/>
      <inertia ixx="0.001" ixy="0.0" ixz="0.0" iyy="0.001" iyz="0.0" izz="0.001"/>
    </inertial>
    <collision>
      <geometry>
        <box size="0 0 0"/>
      </geometry>
      <origin rpy="0 0 0" xyz="0 0 0"/>
    </collision>
    <visual>
      <geometry>
        <box size="0 0 0"/>
      </geometry>
      <origin rpy="0 0 0" xyz="0 0 0"/>
    </visual>
  </link>
  <joint name="finger[2]/flexible_joint_twist_from_7_to_8" type="revolute">
    <parent link="finger[2]/flexible_link_hidden_between_7_and_8"/>
    <child link="finger[2]/flexible_link_8"/>
    <origin xyz="0 0 0"/>
    <axis xyz="0 0 1"/>
    <limit effort="1000.0" lower="0.0" upper="1.57" velocity="0.5"/>
  </joint>
  <joint name="finger[2]/flexible_joint_flex_from_8_to_9" type="revolute">
    <parent link="finger[2]/flexible_link_8"/>
    <child link="finger[2]/flexible_link_hidden_between_8_and_9"/>
    <origin xyz="0 0 0.00177777777778"/>
    <axis xyz="-1 0 0"/>
    <limit effort="1000.0" lower="0.0" upper="1.57" velocity="0.5"/>
  </joint>
  <link name="finger[2]/flexible_link_hidden_between_8_and_9">
    <inertial>
      <mass value="0.1"/>
      <origin xyz="0 0 0"/>
      <inertia ixx="0.001" ixy="0.0" ixz="0.0" iyy="0.001" iyz="0.0" izz="0.001"/>
    </inertial>
    <collision>
      <geometry>
        <box size="0 0 0"/>
      </geometry>
      <origin rpy="0 0 0" xyz="0 0 0"/>
    </collision>
    <visual>
      <geometry>
        <box size="0 0 0"/>
      </geometry>
      <origin rpy="0 0 0" xyz="0 0 0"/>
    </visual>
  </link>
  <joint name="finger[2]/flexible_joint_twist_from_8_to_9" type="revolute">
    <parent link="finger[2]/flexible_link_hidden_between_8_and_9"/>
    <child link="finger[2]/flexible_link_9"/>
    <origin xyz="0 0 0"/>
    <axis xyz="0 0 1"/>
    <limit effort="1000.0" lower="0.0" upper="1.57" velocity="0.5"/>
  </joint>
  <joint name="finger[2]/flexible_joint_flex_from_proximal_to_1" type="revolute">
    <parent link="finger[2]/proximal_link"/>
    <child link="finger[2]/flexible_link_hidden_between_proximal_link_and_1"/>
    <origin xyz="0 0 0.062"/>
    <axis xyz="-1 0 0"/>
    <limit effort="1000.0" lower="0.0" upper="1.57" velocity="0.5"/>
  </joint>
  <link name="finger[2]/flexible_link_hidden_between_proximal_link_and_1">
    <inertial>
      <mass value="0.1"/>
      <origin xyz="0 0 0"/>
      <inertia ixx="0.001" ixy="0.0" ixz="0.0" iyy="0.001" iyz="0.0" izz="0.001"/>
    </inertial>
    <collision>
      <geometry>
        <box size="0 0 0"/>
      </geometry>
      <origin rpy="0 0 0" xyz="0 0 0"/>
    </collision>
    <visual>
      <geometry>
        <box size="0 0 0"/>
      </geometry>
      <origin rpy="0 0 0" xyz="0 0 0"/>
    </visual>
  </link>
  <joint name="finger[2]/flexible_joint_twist_from_proximal_to_1" type="revolute">
    <parent link="finger[2]/flexible_link_hidden_between_proximal_link_and_1"/>
    <child link="finger[2]/flexible_link_1"/>
    <origin xyz="0 0 0"/>
    <axis xyz="0 0 1"/>
    <limit effort="1000.0" lower="0.0" upper="1.57" velocity="0.5"/>
  </joint>
  <joint name="finger[2]/flexible_joint_flex_from_9_to_distal" type="revolute">
    <parent link="finger[2]/flexible_link_9"/>
    <child link="finger[2]/flexible_link_hidden_between_9_and_distal_link"/>
    <origin xyz="0 0 0.00177777777778"/>
    <axis xyz="-1 0 0"/>
    <limit effort="1000.0" lower="0.0" upper="1.57" velocity="0.5"/>
  </joint>
  <link name="finger[2]/flexible_link_hidden_between_9_and_distal_link">
    <inertial>
      <mass value="0.1"/>
      <origin xyz="0 0 0"/>
      <inertia ixx="0.001" ixy="0.0" ixz="0.0" iyy="0.001" iyz="0.0" izz="0.001"/>
    </inertial>
    <collision>
      <geometry>
        <box size="0 0 0"/>
      </geometry>
      <origin rpy="0 0 0" xyz="0 0 0"/>
    </collision>
    <visual>
      <geometry>
        <box size="0 0 0"/>
      </geometry>
      <origin rpy="0 0 0" xyz="0 0 0"/>
    </visual>
  </link>
  <joint name="finger[2]/flexible_joint_twist_from_9_to_distal" type="revolute">
    <parent link="finger[2]/flexible_link_hidden_between_9_and_distal_link"/>
    <child link="finger[2]/distal_link"/>
    <origin xyz="0 0 0"/>
    <axis xyz="0 0 1"/>
    <limit effort="1000.0" lower="0.0" upper="1.57" velocity="0.5"/>
  </joint>
  <link name="base_link">
    <inertial>
      <mass value="0.1"/>
      <origin xyz="0 0 0"/>
      <inertia ixx="0.001" ixy="0.0" ixz="0.0" iyy="0.001" iyz="0.0" izz="0.001"/>
    </inertial>
    <visual>
      <geometry>
        <mesh filename="package://irobot_hand/meshes/palm.stl"/>
      </geometry>
      <material name="darkgray">
        <color rgba="0.2 0.2 0.2 1"/>
      </material>
      <origin rpy="0 0 0" xyz="0 -0.038 -0.023"/>
    </visual>
    <collision>
      <geometry>
        <mesh filename="package://irobot_hand/meshes/palm.stl"/>
      </geometry>
      <origin rpy="0 0 0" xyz="0 -0.038 -0.023"/>
    </collision>
  </link>
  <link name="finger[0]/base_rotation_link">
    <inertial>
      <mass value="0.1"/>
      <origin xyz="0 0 0"/>
      <inertia ixx="0.001" ixy="0.0" ixz="0.0" iyy="0.001" iyz="0.0" izz="0.001"/>
    </inertial>
    <collision>
      <geometry>
        <mesh filename="package://irobot_hand/meshes/finger_base.stl"/>
      </geometry>
      <origin rpy="1.57 0 0" xyz="0 0 0"/>
    </collision>
    <visual>
      <geometry>
        <mesh filename="package://irobot_hand/meshes/finger_base.stl"/>
      </geometry>
      <material name="darkgray">
        <color rgba="0.2 0.2 0.2 1"/>
      </material>
      <origin rpy="1.57 0 0" xyz="0 0 0"/>
    </visual>
  </link>
  <link name="finger[0]/proximal_link">
    <inertial>
      <mass value="0.1"/>
      <origin xyz="0 0 0"/>
      <inertia ixx="0.001" ixy="0.0" ixz="0.0" iyy="0.001" iyz="0.0" izz="0.001"/>
    </inertial>
    <collision>
      <geometry>
        <mesh filename="package://irobot_hand/meshes/finger_proximal.stl"/>
      </geometry>
      <origin rpy="1.57 -1.57 0" xyz="0 0 0"/>
    </collision>
    <visual>
      <geometry>
        <mesh filename="package://irobot_hand/meshes/finger_proximal.stl"/>
      </geometry>
      <material name="green">
        <color rgba="0.1 0.6 0.1 1"/>
      </material>
      <origin rpy="1.57 -1.57 0" xyz="0 0 0"/>
    </visual>
  </link>
  <link name="finger[0]/distal_link">
    <inertial>
      <mass value="0.1"/>
      <origin xyz="0 0 0"/>
      <inertia ixx="0.001" ixy="0.0" ixz="0.0" iyy="0.001" iyz="0.0" izz="0.001"/>
    </inertial>
    <collision>
      <geometry>
        <mesh filename="package://irobot_hand/meshes/finger_distal.stl"/>
      </geometry>
      <origin rpy="0 3.14 0" xyz="0 0 0"/>
    </collision>
    <visual>
      <geometry>
        <mesh filename="package://irobot_hand/meshes/finger_distal.stl"/>
      </geometry>
      <material name="green">
        <color rgba="0.1 0.6 0.1 1"/>
      </material>
      <origin rpy="0 3.14 0" xyz="0 0 0"/>
    </visual>
  </link>
  <link name="finger[1]/base_rotation_link">
    <inertial>
      <mass value="0.1"/>
      <origin xyz="0 0 0"/>
      <inertia ixx="0.001" ixy="0.0" ixz="0.0" iyy="0.001" iyz="0.0" izz="0.001"/>
    </inertial>
    <collision>
      <geometry>
        <mesh filename="package://irobot_hand/meshes/finger_base.stl"/>
      </geometry>
      <origin rpy="1.57 0 0" xyz="0 0 0"/>
    </collision>
    <visual>
      <geometry>
        <mesh filename="package://irobot_hand/meshes/finger_base.stl"/>
      </geometry>
      <material name="darkgray">
        <color rgba="0.2 0.2 0.2 1"/>
      </material>
      <origin rpy="1.57 0 0" xyz="0 0 0"/>
    </visual>
  </link>
  <link name="finger[1]/proximal_link">
    <inertial>
      <mass value="0.1"/>
      <origin xyz="0 0 0"/>
      <inertia ixx="0.001" ixy="0.0" ixz="0.0" iyy="0.001" iyz="0.0" izz="0.001"/>
    </inertial>
    <collision>
      <geometry>
        <mesh filename="package://irobot_hand/meshes/finger_proximal.stl"/>
      </geometry>
      <origin rpy="1.57 -1.57 0" xyz="0 0 0"/>
    </collision>
    <visual>
      <geometry>
        <mesh filename="package://irobot_hand/meshes/finger_proximal.stl"/>
      </geometry>
      <material name="green">
        <color rgba="0.1 0.6 0.1 1"/>
      </material>
      <origin rpy="1.57 -1.57 0" xyz="0 0 0"/>
    </visual>
  </link>
  <link name="finger[1]/distal_link">
    <inertial>
      <mass value="0.1"/>
      <origin xyz="0 0 0"/>
      <inertia ixx="0.001" ixy="0.0" ixz="0.0" iyy="0.001" iyz="0.0" izz="0.001"/>
    </inertial>
    <collision>
      <geometry>
        <mesh filename="package://irobot_hand/meshes/finger_distal.stl"/>
      </geometry>
      <origin rpy="0 3.14 0" xyz="0 0 0"/>
    </collision>
    <visual>
      <geometry>
        <mesh filename="package://irobot_hand/meshes/finger_distal.stl"/>
      </geometry>
      <material name="green">
        <color rgba="0.1 0.6 0.1 1"/>
      </material>
      <origin rpy="0 3.14 0" xyz="0 0 0"/>
    </visual>
  </link>
  <link name="finger[2]/proximal_link">
    <inertial>
      <mass value="0.1"/>
      <origin xyz="0 0 0"/>
      <inertia ixx="0.001" ixy="0.0" ixz="0.0" iyy="0.001" iyz="0.0" izz="0.001"/>
    </inertial>
    <collision>
      <geometry>
        <mesh filename="package://irobot_hand/meshes/finger_proximal.stl"/>
      </geometry>
      <origin rpy="1.57 -1.57 0" xyz="0 0 0"/>
    </collision>
    <visual>
      <geometry>
        <mesh filename="package://irobot_hand/meshes/finger_proximal.stl"/>
      </geometry>
      <material name="green">
        <color rgba="0.1 0.6 0.1 1"/>
      </material>
      <origin rpy="1.57 -1.57 0" xyz="0 0 0"/>
    </visual>
  </link>
  <link name="finger[2]/distal_link">
    <inertial>
      <mass value="0.1"/>
      <origin xyz="0 0 0"/>
      <inertia ixx="0.001" ixy="0.0" ixz="0.0" iyy="0.001" iyz="0.0" izz="0.001"/>
    </inertial>
    <collision>
      <geometry>
        <mesh filename="package://irobot_hand/meshes/finger_distal.stl"/>
      </geometry>
      <origin rpy="0 3.14 0" xyz="0 0 0"/>
    </collision>
    <visual>
      <geometry>
        <mesh filename="package://irobot_hand/meshes/finger_distal.stl"/>
      </geometry>
      <material name="green">
        <color rgba="0.1 0.6 0.1 1"/>
      </material>
      <origin rpy="0 3.14 0" xyz="0 0 0"/>
    </visual>
  </link>
  <joint name="finger[0]/joint_base_rotation" type="revolute">
    <parent link="base_link"/>
    <child link="finger[0]/base_rotation_link"/>
    <origin rpy="0 0 0" xyz="0.03075 0.038 0.069477"/>
    <axis xyz="0 0 -1"/>
    <limit effort="1000.0" lower="0.0" upper="1.57" velocity="0.5"/>
  </joint>
  <joint name="finger[0]/joint_base" type="revolute">
    <parent link="finger[0]/base_rotation_link"/>
    <child link="finger[0]/proximal_link"/>
    <origin rpy="1.57 0 -3.14" xyz="0 0 0.0135"/>
    <axis xyz="-1 0 0"/>
    <limit effort="1000.0" lower="0.0" upper="1.57" velocity="0.5"/>
  </joint>
  <joint name="finger[1]/joint_base_rotation" type="revolute">
    <parent link="base_link"/>
    <child link="finger[1]/base_rotation_link"/>
    <origin rpy="0 0 0" xyz="-0.03075 0.038 0.069477"/>
    <axis xyz="0 0 1"/>
    <limit effort="1000.0" lower="0.0" upper="1.57" velocity="0.5"/>
  </joint>
  <joint name="finger[1]/joint_base" type="revolute">
    <parent link="finger[1]/base_rotation_link"/>
    <child link="finger[1]/proximal_link"/>
    <origin rpy="1.57 0 -3.14" xyz="0 0 0.0135"/>
    <axis xyz="-1 0 0"/>
    <limit effort="1000.0" lower="0.0" upper="1.57" velocity="0.5"/>
  </joint>
  <joint name="finger[2]/joint_base" type="revolute">
    <parent link="base_link"/>
    <child link="finger[2]/proximal_link"/>
    <origin rpy="1.57 0 0" xyz="0 -0.038 0.082755"/>
    <axis xyz="-1 0 0"/>
    <limit effort="1000.0" lower="0.0" upper="1.57" velocity="0.5"/>
  </joint>
</robot>
